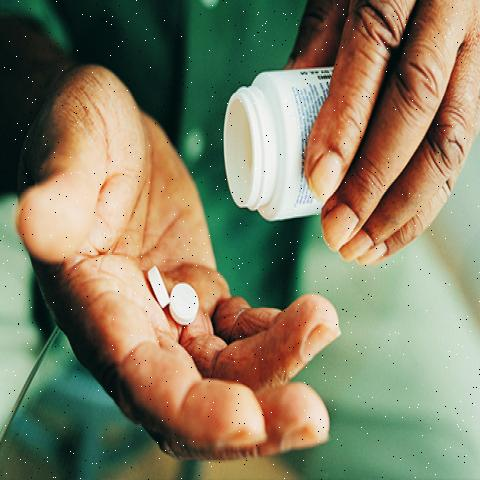hands: (140, 251, 172, 319), (170, 280, 206, 337)
